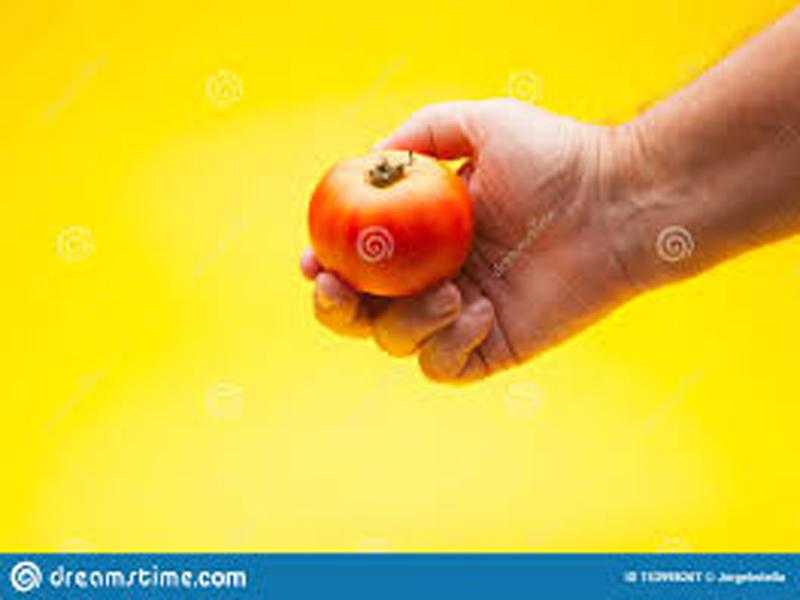Tomato: (309, 151, 473, 295)
